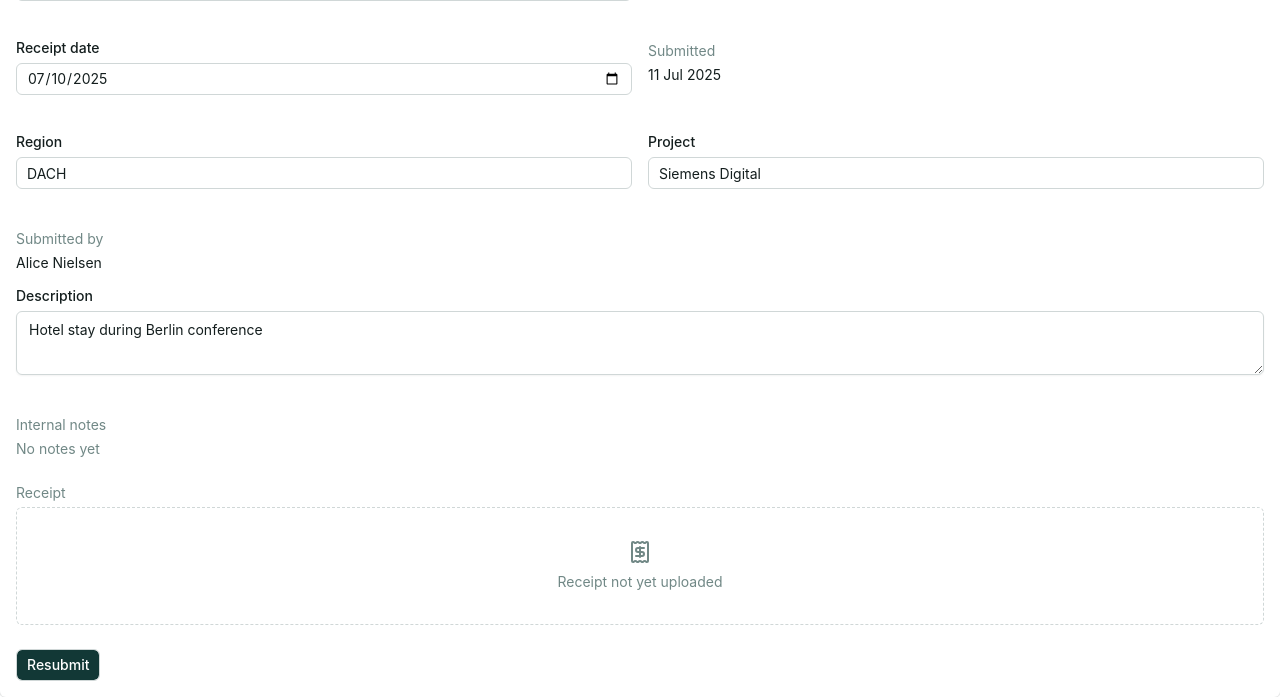
Test: ExpenseDetailCard › resubmit › loading state › disables the button with loading text while submitting; fields stay enabled
The width and height of the screenshot is (1280, 697).
(page scrolled)
What coordinates should you click on to do the following:
click the button "Resubmit"
I would click on:
 (58, 665)
Its box is [16,649,100,681].
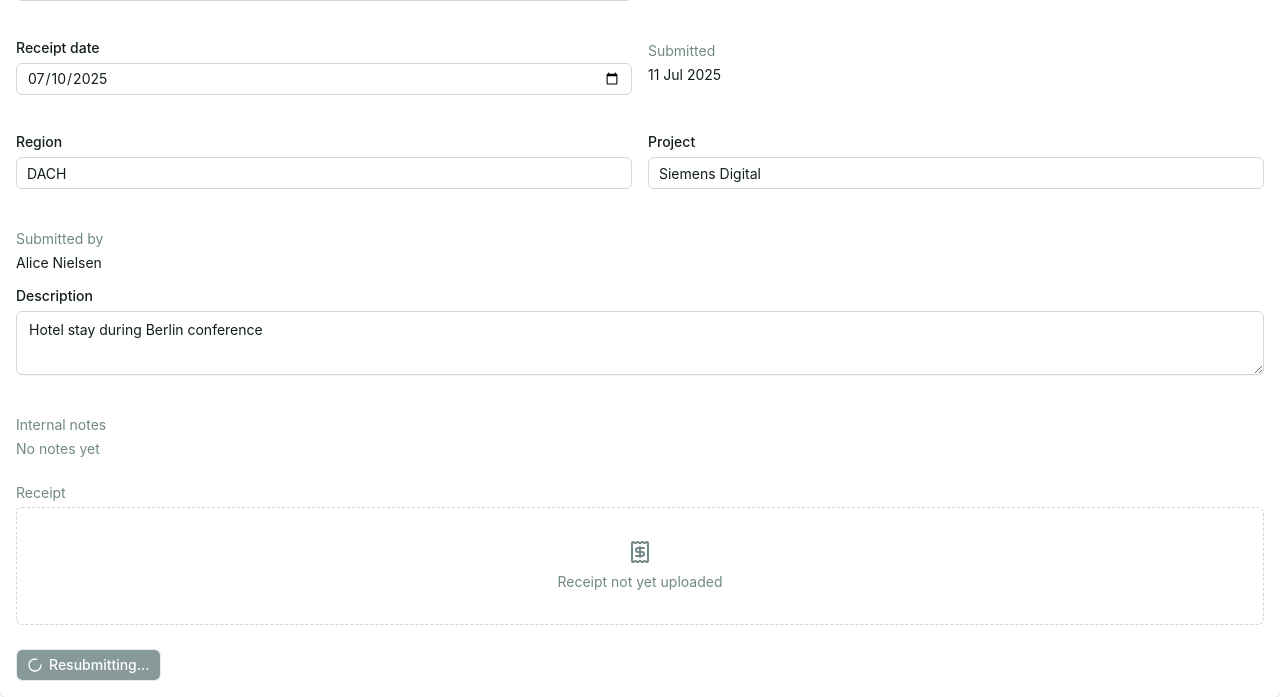
Expected: the text box labelled "Description" is enabled, [16,311,1264,375]
Now the button "Resubmitting…" is disabled, box [16,649,160,681]
